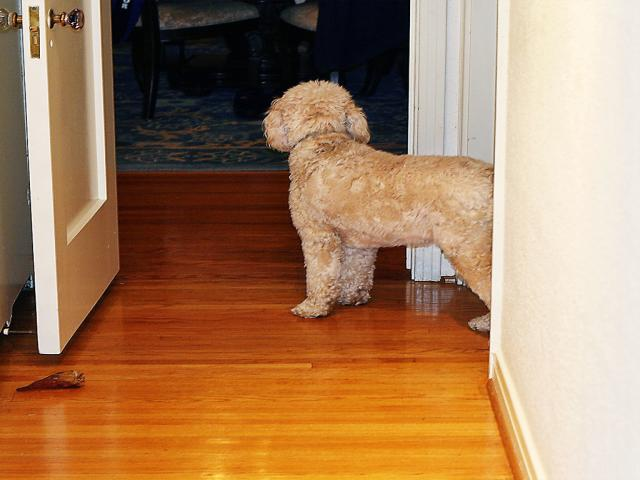Dog: (260, 77, 495, 334)
